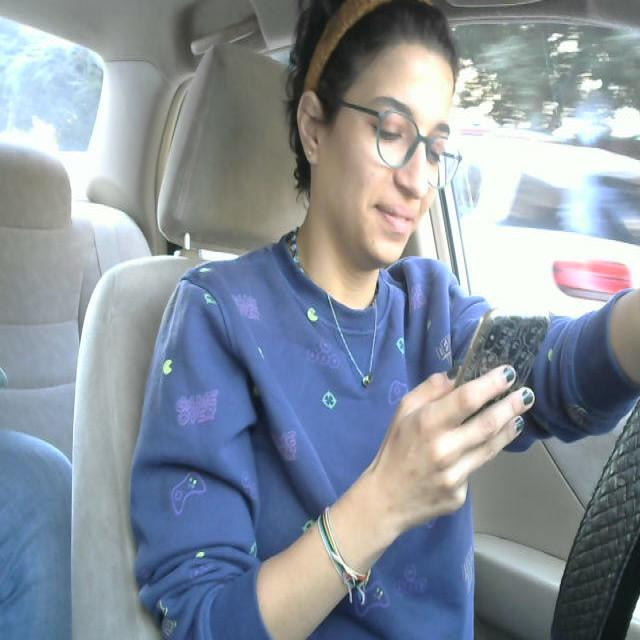mobile use: (453, 305, 557, 419)
